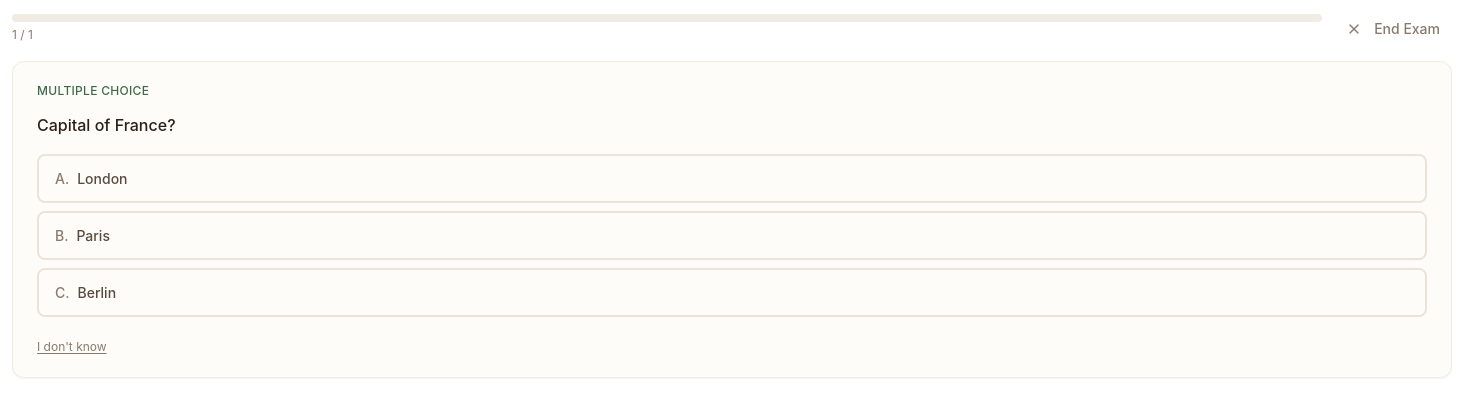
it: KnowledgeExamSession › handles I don't know option as incorrect
Step 1. Click the button "I don't know" → (72, 347), box [37,338,107,356]
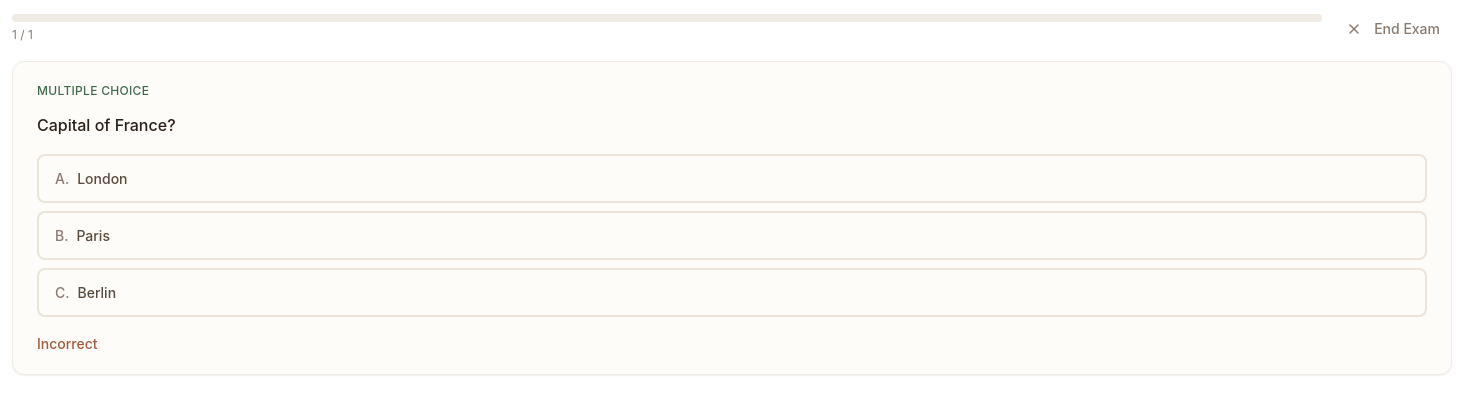
Expected: the text "Incorrect" is shown, [37,335,98,352]
